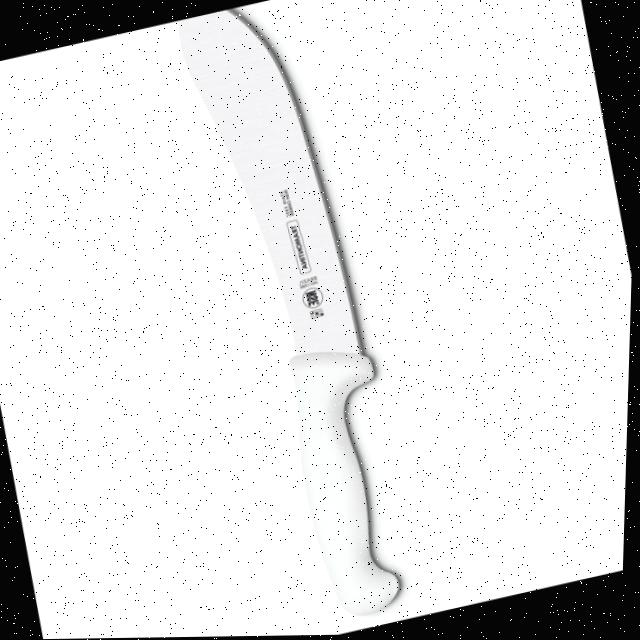knife: (145, 0, 438, 638)
